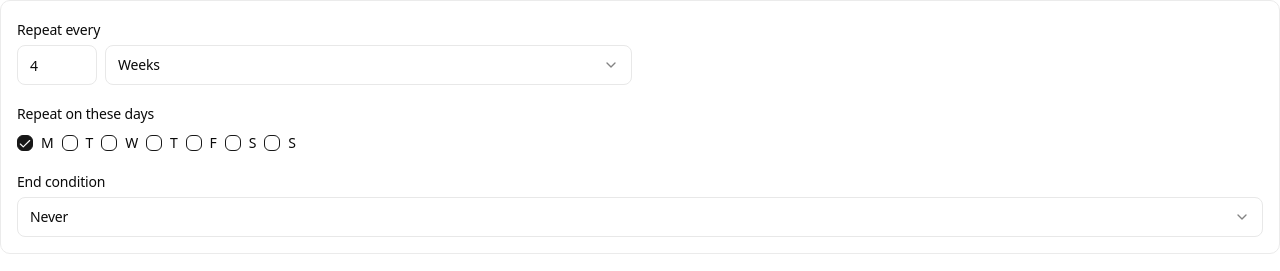
Test case: CustomRepeatingEditor (AWTD-1352) › AWTD-1352: "0" is not taken as an interval
Replace the text in the number field labelled "Repeat every" with "0" at (57, 65), box [17, 45, 97, 85]
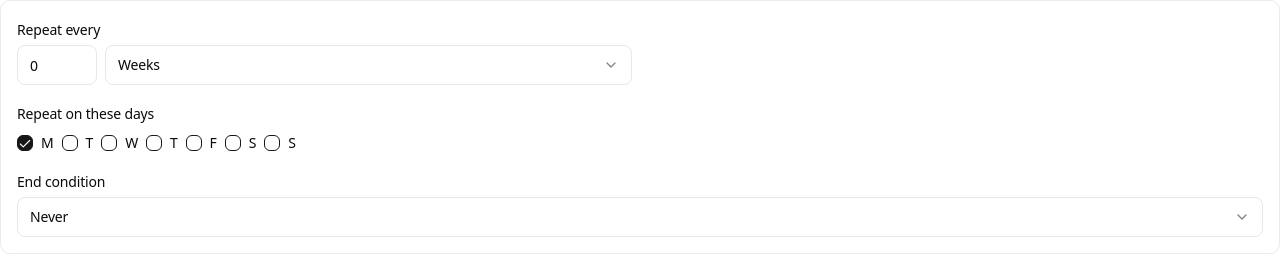
Leave the number field labelled "Repeat every", box [17, 45, 97, 85]
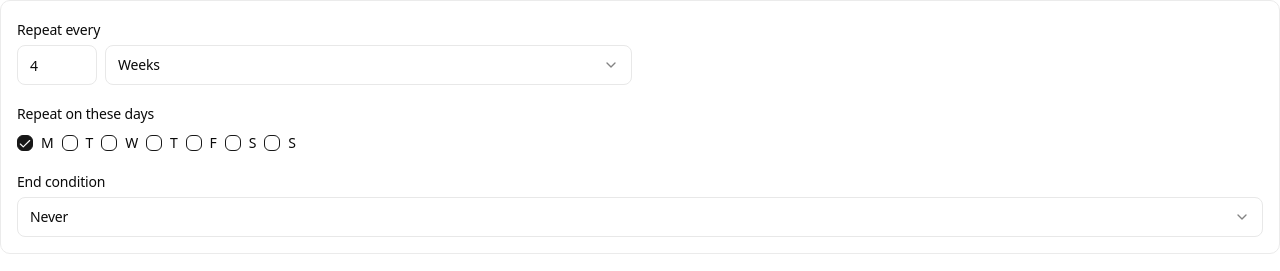
Result: the number field labelled "Repeat every" holds "4" at [17, 45, 97, 85]
